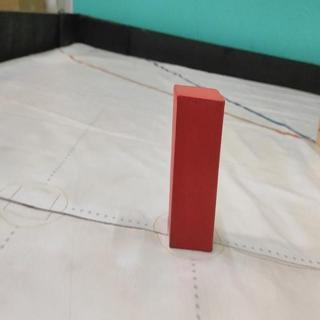redbox: (169, 84, 225, 252)
